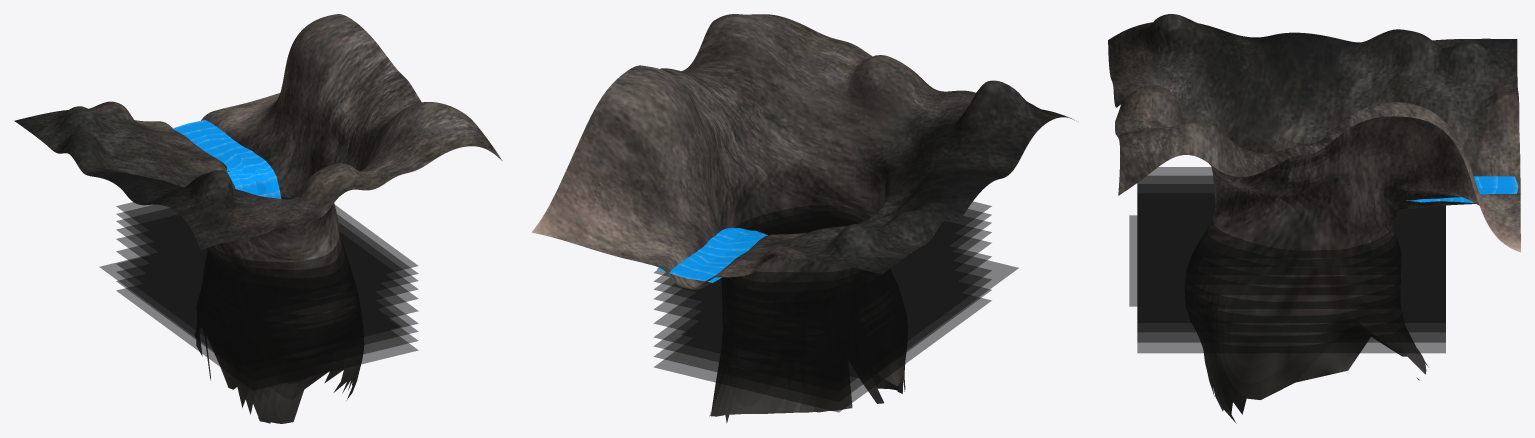
File: Waterfall.fbx
3 renders of one model, left to right at view 1: azimuth 30°, elevation 25°; view 2: azimuth 150°, elevation 25°; view 3: azimuth 270°, elevation 25°, orthographic. The views are drawn at different scales.
Visible parts, largest first — view 1: Grid, Plane.009, Plane.003, Plane.001, Plane.008, Plane.005, Plane, Plane.010, Plane.002, Plane.007, Plane.004, Waterfall (+1 smaller); view 2: Grid, Plane.009, Plane.001, Plane.003, Plane.008, Plane.005, Plane, Plane.010, Plane.002, Plane.007, Plane.004, Plane.006 (+1 smaller); view 3: Grid, Plane.009, Plane.003, Plane.006, Plane.008, Plane, Plane.005, Plane.007, Plane.010, Plane.002, Plane.004, Plane.001 (+1 smaller).
Boxes of the visible parts, x1,y1,x2,y2 form: Grid: (14,14,502,423); Plane.009: (116,205,418,313); Plane.003: (116,196,417,306); Plane.001: (99,257,401,366); Plane.008: (116,246,418,351); Plane.005: (116,235,418,338); Plane: (116,288,418,390); Plane.010: (116,226,418,329); Plane.002: (116,218,418,321); Plane.007: (116,279,418,381); Plane.004: (117,261,418,363); Waterfall: (172,120,281,198); Grid: (531,14,1074,423); Plane.009: (654,209,991,326); Plane.001: (681,257,1018,379); Plane.003: (654,201,991,317); Plane.008: (653,251,991,368); Plane.005: (654,238,991,354); Plane: (654,297,991,412); Plane.010: (654,228,991,344); Plane.002: (654,219,991,334); Plane.007: (654,287,991,401); Plane.004: (654,267,990,382); Plane.006: (654,277,990,391); Grid: (1108,14,1520,423); Plane.009: (1137,176,1445,266); Plane.003: (1137,167,1445,258); Plane.006: (1137,309,1445,332); Plane.008: (1137,284,1445,308); Plane: (1137,332,1445,353); Plane.005: (1137,275,1445,295); Plane.007: (1137,323,1445,342); Plane.010: (1137,267,1445,284); Plane.002: (1137,258,1445,274); Plane.004: (1137,295,1445,322); Plane.001: (1129,215,1437,306).
Bounding box in the file's own units: 19751 × 18858 × 20088.
